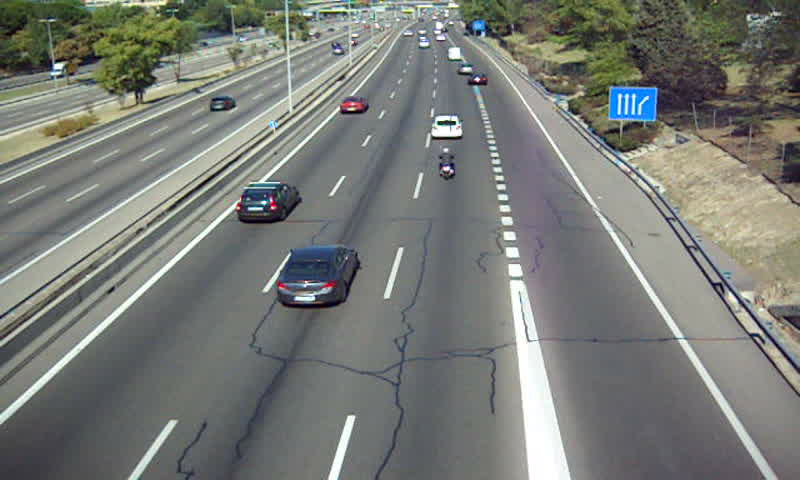car: (276, 244, 359, 310), (237, 182, 300, 222), (430, 115, 464, 141), (340, 96, 367, 113), (467, 74, 488, 86), (459, 62, 476, 76)
motorcycle: (438, 147, 457, 182)
